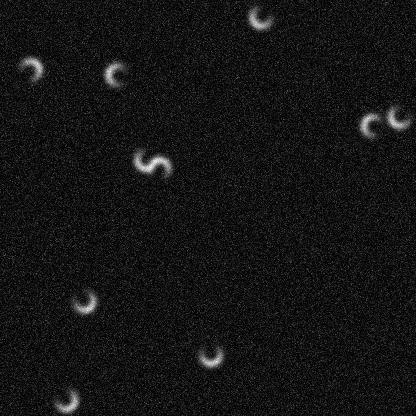Janus: (246, 1, 276, 31), (131, 144, 161, 174), (384, 101, 414, 131), (195, 339, 225, 369), (102, 59, 132, 89), (50, 384, 80, 414), (68, 285, 98, 315), (143, 153, 173, 183), (14, 54, 44, 84), (357, 110, 387, 140)
